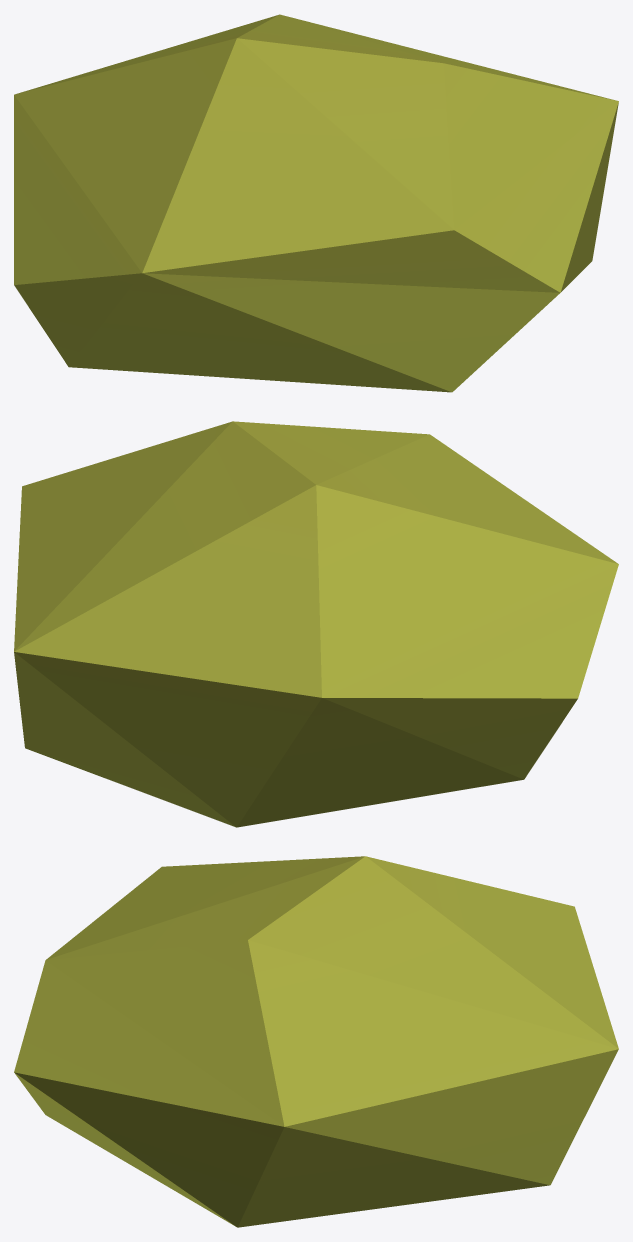
Rendered from Rock_02.fbx.
The picture shows the model from 3 angles, top to bottom: view 1: azimuth 30°, elevation 25°; view 2: azimuth 150°, elevation 25°; view 3: azimuth 270°, elevation 25°; orthographic projection. The views are drawn at different scales.
Parts seen in each view (by area): view 1: Rock_02; view 2: Rock_02; view 3: Rock_02.
Boxes of the visible parts, left/top/right/bottom form: Rock_02: left=14, top=14, right=618, bottom=392; Rock_02: left=14, top=421, right=618, bottom=827; Rock_02: left=14, top=856, right=618, bottom=1227.
Size of the model in its own units: 0.619 by 0.3319 by 0.5767.
